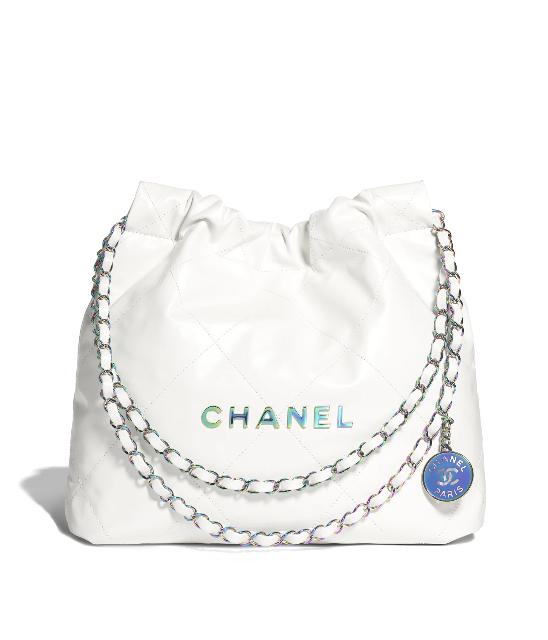Chanel: (186, 384, 368, 448), (417, 448, 481, 504)
